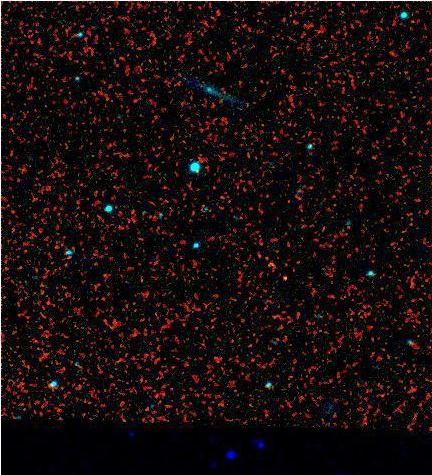star: (245, 64, 275, 94)
